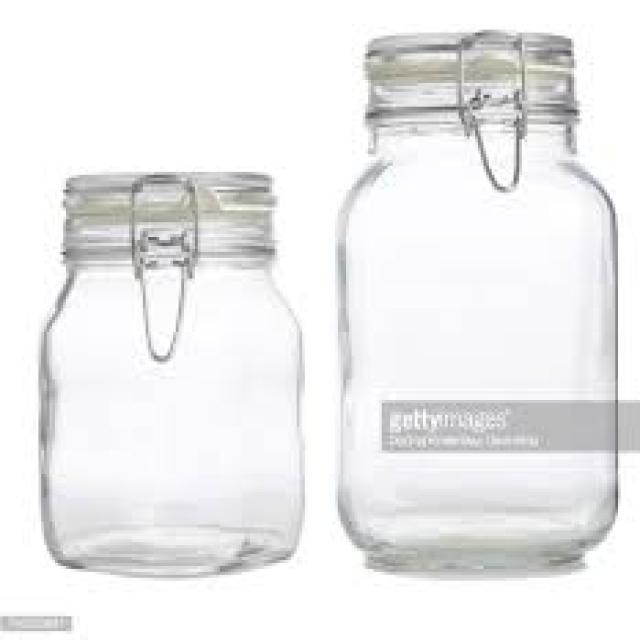glass: (335, 30, 618, 569), (39, 172, 300, 575)
